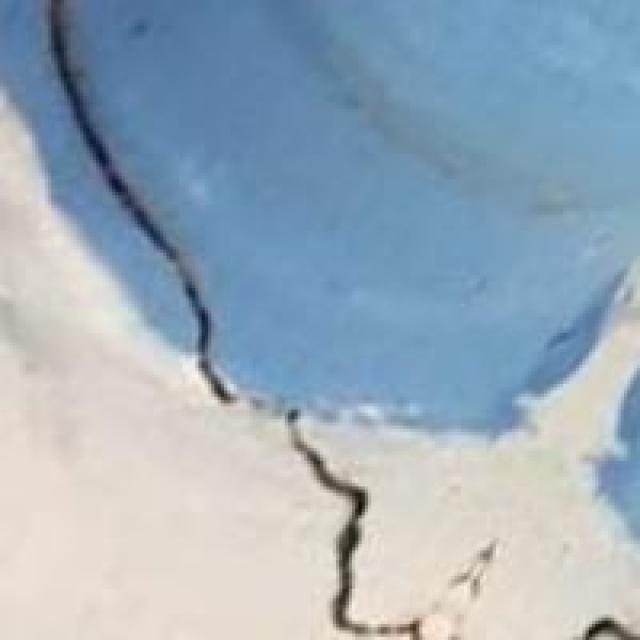crack: (22, 0, 493, 637)
